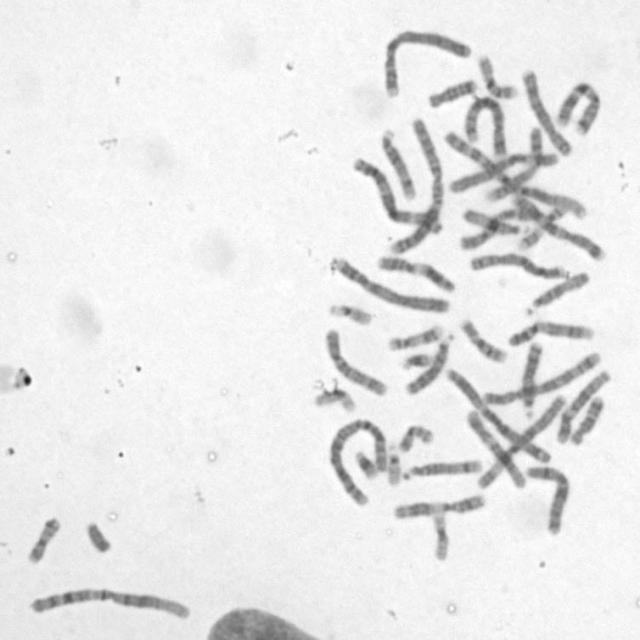A1: (444, 130, 590, 221), (25, 588, 191, 622)
A2: (390, 117, 444, 256), (329, 419, 387, 507)
A3: (444, 366, 553, 464), (351, 157, 443, 235)
B4: (330, 256, 451, 314), (382, 30, 473, 99)
B5: (482, 350, 604, 405), (463, 95, 508, 158)
C10: (325, 328, 389, 397), (456, 207, 529, 251)
C11: (377, 253, 457, 293), (391, 494, 490, 520)
C12: (464, 408, 526, 490), (555, 369, 612, 446)
C6: (474, 394, 567, 490), (448, 151, 560, 194)
C7: (512, 194, 608, 263), (554, 81, 601, 136)
C8: (519, 68, 574, 158), (469, 252, 572, 281)
C9: (484, 125, 544, 204), (507, 320, 595, 347)
D13: (403, 332, 457, 398), (520, 341, 545, 417)
D14: (379, 126, 417, 202), (402, 457, 484, 482)
D15: (524, 271, 590, 317), (462, 208, 530, 236)
E16: (459, 318, 509, 366), (477, 54, 518, 99)
E17: (515, 205, 570, 250), (387, 325, 445, 352)
E18: (570, 395, 605, 445), (426, 78, 477, 110)
F19: (429, 505, 452, 564), (313, 388, 357, 414)
F20: (26, 517, 63, 564), (399, 425, 436, 453)
G21: (352, 450, 379, 480), (402, 352, 432, 372)
G22: (328, 303, 372, 326), (387, 442, 402, 487)
X: (525, 464, 573, 536)
Y: (83, 518, 114, 555)
